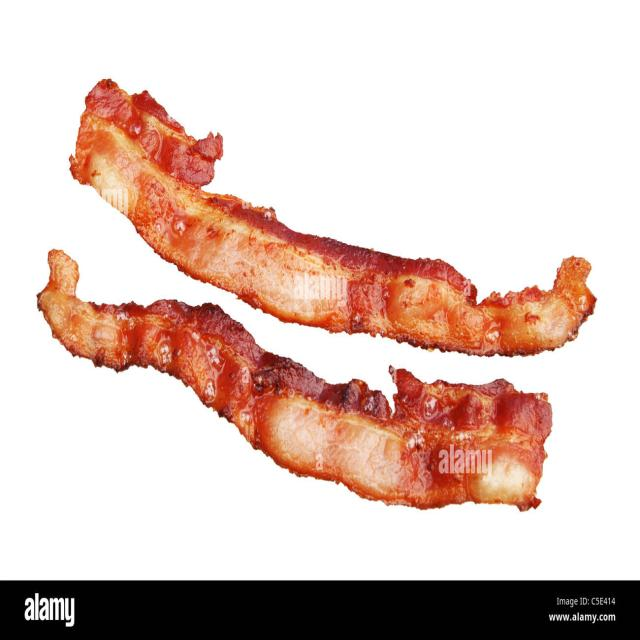Bacon: (70, 80, 595, 355), (38, 250, 551, 510)
